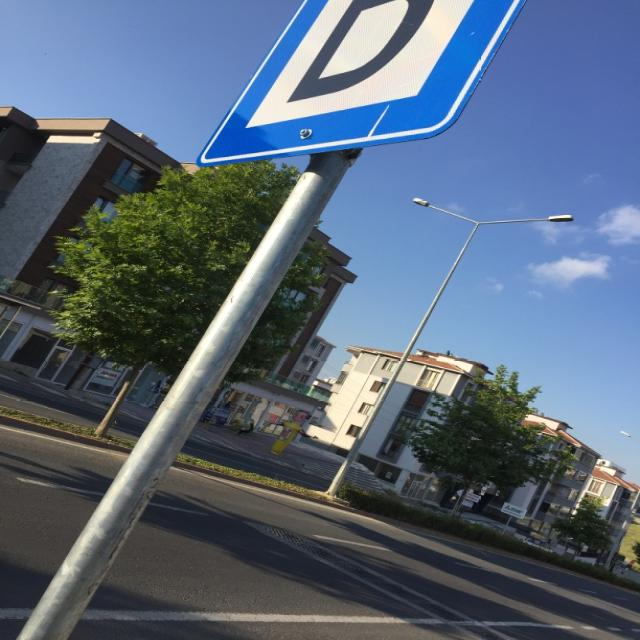durak: (198, 1, 495, 171)
